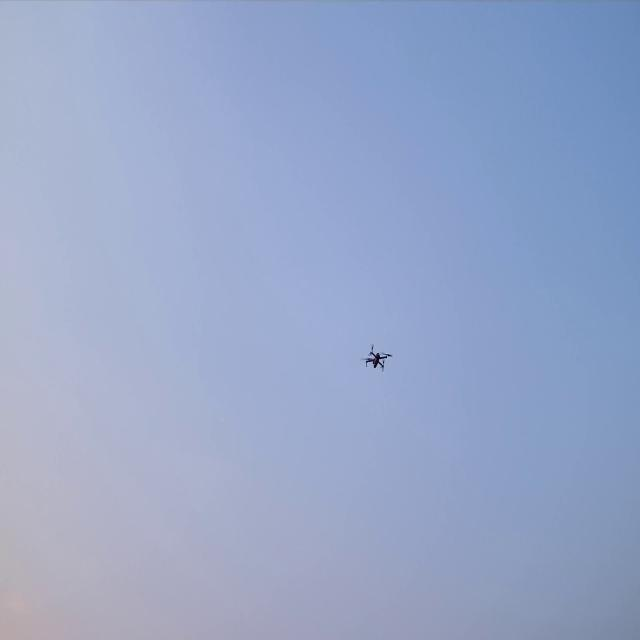UAV: (359, 340, 394, 375)
